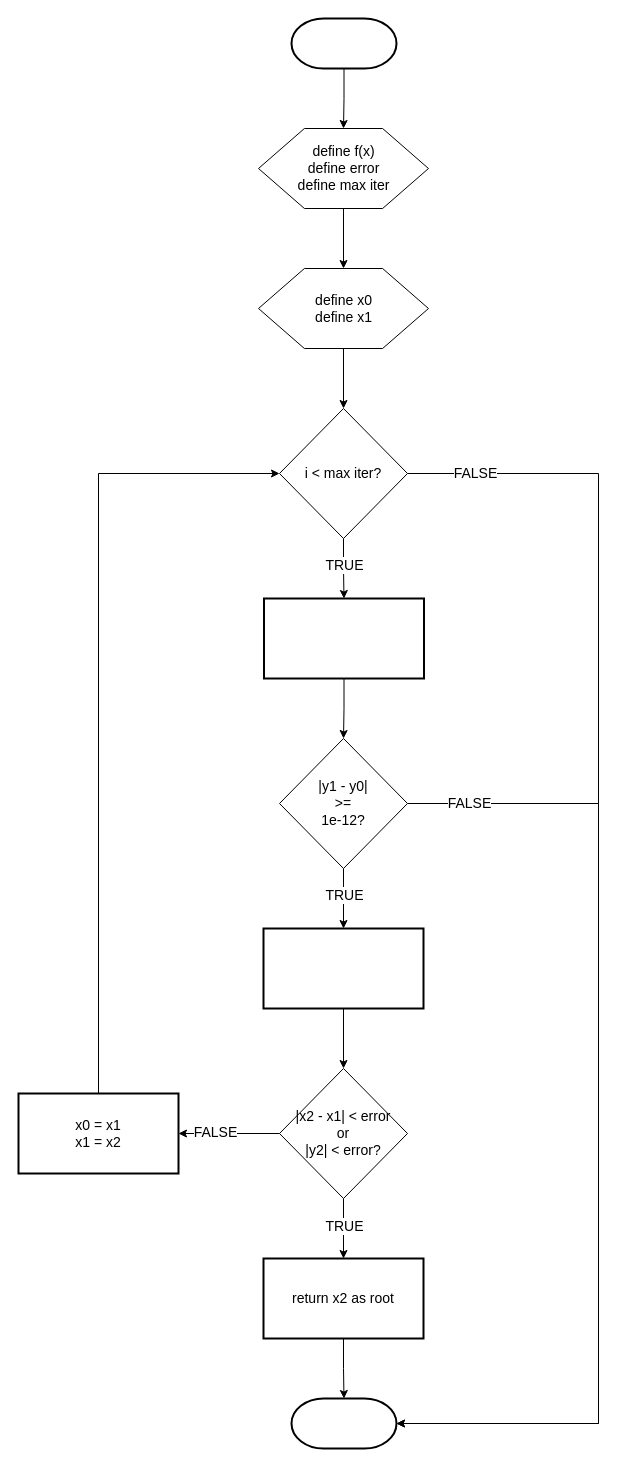
This 624x1466 diagram has some shape labels left out. Here are the shapes that lost their labels. From the top down, the box of each, then its label:
(290, 17, 397, 69): START
(262, 597, 424, 679): find y0 (equal to f(x0)) find y1 (equal to f(x1))
(262, 927, 424, 1009): x2 = (x1 - y1) * ((x1 - x0) / (y1 - y0))
(290, 1397, 397, 1449): END
